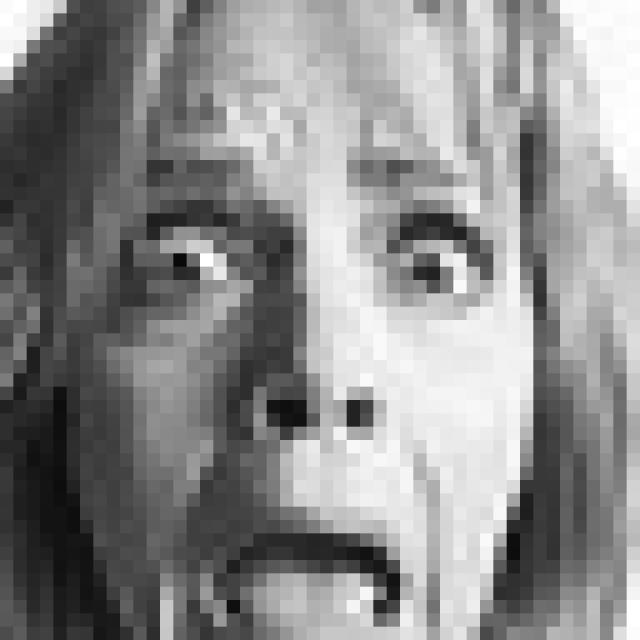fear: (117, 141, 510, 640)
